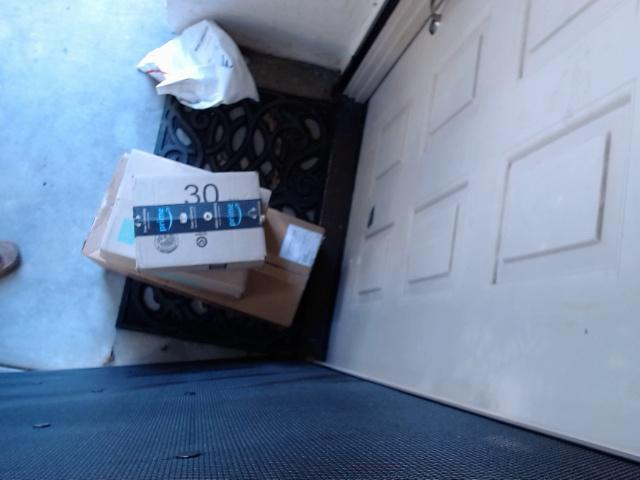box: (64, 128, 368, 330), (101, 150, 263, 309), (115, 165, 280, 266)
plastic_bag: (129, 12, 284, 119)
